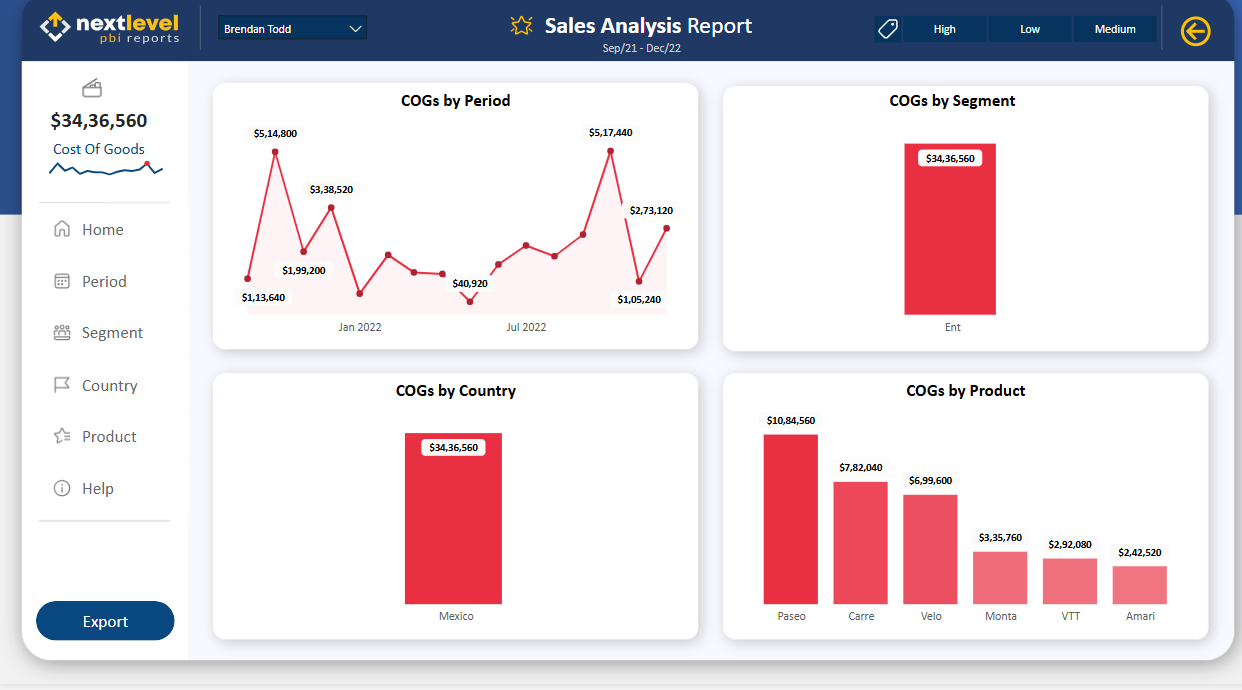

This screenshot's page, from the dashboard's own definition file:
{"tool":"powerbi","page":{"name":"Cost of Goods","canvas":[1280,720],"ordinal":6},"visuals":[{"type":"actionButton","title":"Button Clear Discount","box":[1193,41,40,40],"z":0,"group":"g3"},{"type":"group","id":"g1","title":"COGs_DT","box":[228,120,990,548],"z":0},{"type":"areaChart","title":"COGs by  Period","fields":{"Category":["DIM_DATE.Reporting Period"],"Y":["*Measures.M_Cost Of Goods"]},"box":[228,120,475,256],"z":0,"group":"g1"},{"type":"pivotTable","title":"Spark_COG","fields":{"Values":["SparklineData(*Measures.M_Cost Of Goods_[DIM_DATE.YearMonth])"]},"box":[27,158,157,66.2],"z":0,"group":"g4"},{"type":"actionButton","title":"Button_Export","box":[42,635,140,40],"z":0,"group":"g2"},{"type":"shape","title":"Shape_Divider Right","box":[1163,35,32,45],"z":1000,"group":"g3"},{"type":"actionButton","title":"Button_COG Icon","box":[83.4,101,31.4,33.1],"z":1000,"group":"g4"},{"type":"columnChart","title":"COGs by Segment","fields":{"Y":["*Measures.M_Cost Of Goods"],"Category":["FACT_SALES.Segment Short Name"]},"box":[743,120,448,256],"z":1000,"group":"g1"},{"type":"shape","title":"Shape_divider 2","box":[45,539,132,32],"z":1000,"group":"g2"},{"type":"slicer","title":"Slicer Discount","fields":{"Values":["FACT_SALES.Discount Band"]},"box":[892,38,306,41],"z":2000,"group":"g3"},{"type":"card","title":"Card_COG","fields":{"Values":["*Measures.M_Cost Of Goods"]},"box":[34.4,110.3,141.3,99.3],"z":2000,"group":"g4"},{"type":"shape","title":"Shape_divider 1","box":[45,218,132,32],"z":2000,"group":"g2"},{"type":"columnChart","title":"COGs by Country","fields":{"Y":["*Measures.M_Cost Of Goods"],"Category":["FACT_SALES.Country Short Name"]},"box":[228,412,475,256],"z":2000,"group":"g1"},{"type":"actionButton","title":"Button_Discount Icon","box":[888,45,27,27],"z":3000,"group":"g3"},{"type":"columnChart","title":"COGs by Product","fields":{"Y":["*Measures.M_Cost Of Goods"],"Category":["FACT_SALES.Product Name (Short)"]},"box":[743,412,475,256],"z":3000,"group":"g1"},{"type":"actionButton","title":"Button_Help","box":[28,496,168,50],"z":3000,"group":"g2"},{"type":"group","id":"g2","title":"Navigation","box":[27,101,169,574],"z":3250},{"type":"group","id":"g3","title":"Header","box":[45,34.3,1188,63],"z":3500},{"type":"card","title":"Card_Date_Range","fields":{"Values":["*Measures.M_Date Selection"]},"box":[591,59.3,123,38],"z":4000,"group":"g3"},{"type":"textbox","title":"Text box_Titles","box":[551,34.3,235,41],"z":5000,"group":"g3"},{"type":"actionButton","title":"Button_Product","box":[28,443.8,168,50],"z":5000,"group":"g2"},{"type":"actionButton","title":"Button_Title Icon","box":[501,34.3,63,40],"z":6000,"group":"g3"},{"type":"shape","title":"Shape_Divider Left","box":[192,35,32,45],"z":7000,"group":"g3"},{"type":"actionButton","title":"Button_Country","box":[28,391.6,168,50],"z":7000,"group":"g2"},{"type":"slicer","title":"Slicer_Managers","fields":{"Values":["DIM_MANAGERS.Manager Name"]},"box":[216,35,170,45],"z":8000,"group":"g3"},{"type":"actionButton","title":"Button Logo","box":[45,37,145,38],"z":9000,"group":"g3"},{"type":"actionButton","title":"Button_Segment","box":[28,339.4,168,50],"z":9000,"group":"g2"},{"type":"actionButton","title":"Button_Period","box":[28,287.2,168,50],"z":11000,"group":"g2"},{"type":"actionButton","title":"Button_Home","box":[28,235,168,50],"z":12000,"group":"g2"},{"type":"group","id":"g4","title":"COGs_info","box":[27,101,157,123.2],"z":12500,"group":"g2"}]}

Visuals, with their boxes on the page's 1280x720 design canvas (x1, y1, x2, y2). These are canvas units, not pixel positions in the 1242x690 screenshot, which may show the page scaled, cropped or inside an application window:
"Button Clear Discount" actionButton: locate(1193, 41, 1233, 81)
"COGs_DT" group: locate(228, 120, 1218, 668)
"COGs by  Period" areaChart: locate(228, 120, 703, 376)
"Spark_COG" pivotTable: locate(27, 158, 184, 224)
"Button_Export" actionButton: locate(42, 635, 182, 675)
"Shape_Divider Right" shape: locate(1163, 35, 1195, 80)
"Button_COG Icon" actionButton: locate(83, 101, 115, 134)
"COGs by Segment" columnChart: locate(743, 120, 1191, 376)
"Shape_divider 2" shape: locate(45, 539, 177, 571)
"Slicer Discount" slicer: locate(892, 38, 1198, 79)
"Card_COG" card: locate(34, 110, 176, 210)
"Shape_divider 1" shape: locate(45, 218, 177, 250)
"COGs by Country" columnChart: locate(228, 412, 703, 668)
"Button_Discount Icon" actionButton: locate(888, 45, 915, 72)
"COGs by Product" columnChart: locate(743, 412, 1218, 668)
"Button_Help" actionButton: locate(28, 496, 196, 546)
"Navigation" group: locate(27, 101, 196, 675)
"Header" group: locate(45, 34, 1233, 97)
"Card_Date_Range" card: locate(591, 59, 714, 97)
"Text box_Titles" textbox: locate(551, 34, 786, 75)
"Button_Product" actionButton: locate(28, 444, 196, 494)
"Button_Title Icon" actionButton: locate(501, 34, 564, 74)
"Shape_Divider Left" shape: locate(192, 35, 224, 80)
"Button_Country" actionButton: locate(28, 392, 196, 442)
"Slicer_Managers" slicer: locate(216, 35, 386, 80)
"Button Logo" actionButton: locate(45, 37, 190, 75)
"Button_Segment" actionButton: locate(28, 339, 196, 389)
"Button_Period" actionButton: locate(28, 287, 196, 337)
"Button_Home" actionButton: locate(28, 235, 196, 285)
"COGs_info" group: locate(27, 101, 184, 224)
